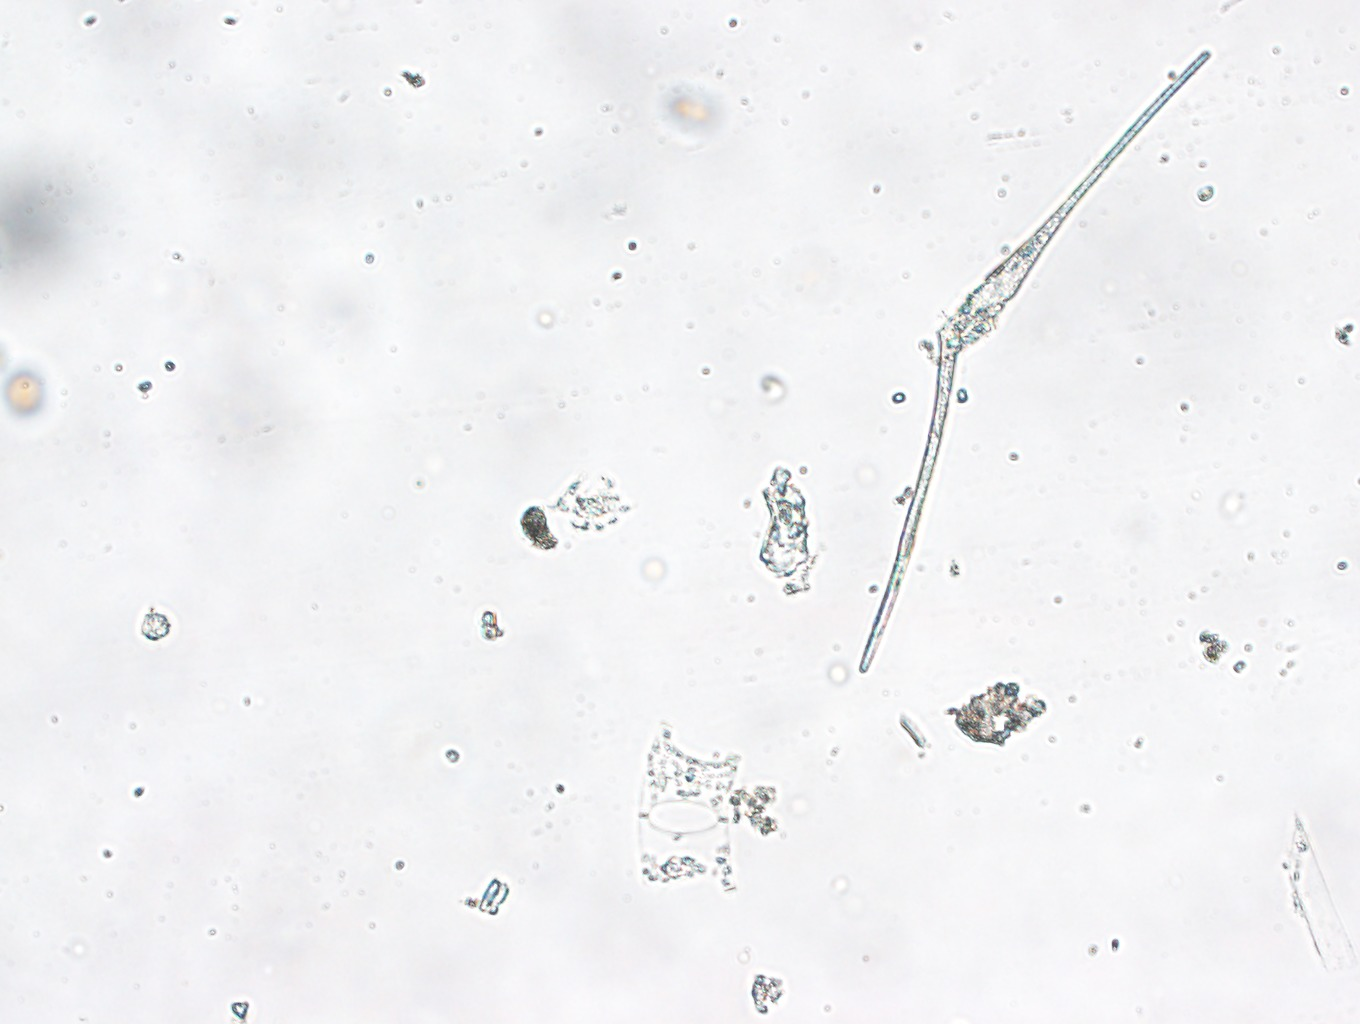ceratium fusus: (853, 46, 1217, 678)
